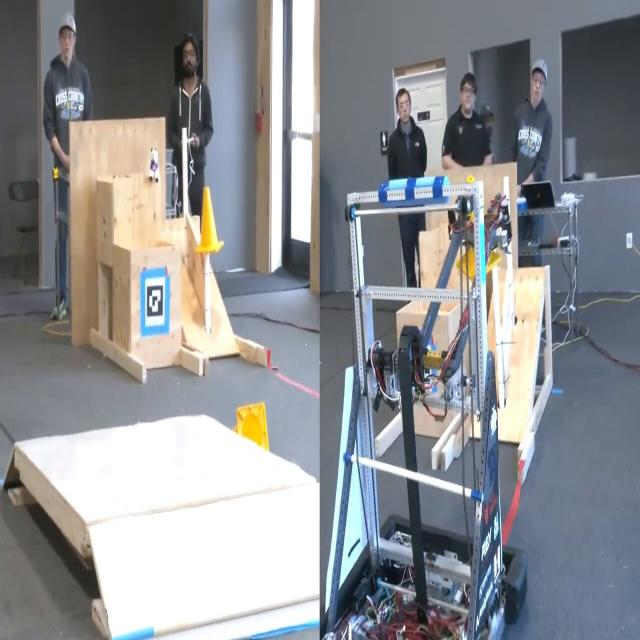frc_cone: (452, 171, 503, 281), (192, 184, 224, 256), (231, 404, 276, 454)
